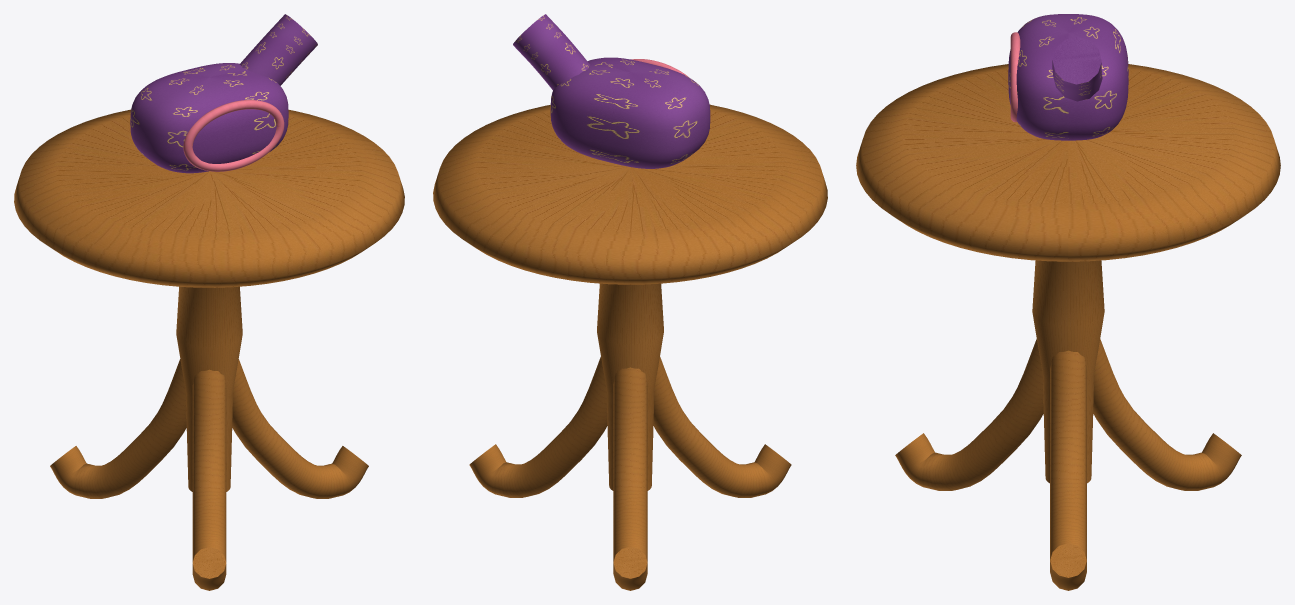
File: table.glb
3 renders of one model, left to right at view 1: azimuth 30°, elevation 25°; view 2: azimuth 150°, elevation 25°; view 3: azimuth 270°, elevation 25°, orthographic. The views are drawn at different scales.
Parts seen in each view (by area): view 1: table_warm wood, table_purple quilt, table_pink shell; view 2: table_warm wood, table_purple quilt; view 3: table_warm wood, table_purple quilt, table_pink shell.
Part boxes in pixels (x1,y1,x2,y2): table_warm wood: [14, 109, 404, 590]; table_purple quilt: [130, 14, 317, 173]; table_pink shell: [183, 100, 284, 171]; table_warm wood: [433, 104, 827, 590]; table_purple quilt: [513, 14, 710, 168]; table_warm wood: [856, 64, 1280, 590]; table_purple quilt: [1008, 14, 1128, 140]; table_pink shell: [1010, 32, 1020, 122].
Size of the model in its own units: 0.74 by 1.02 by 0.74.
Materials: 3 (3 with a texture image).
